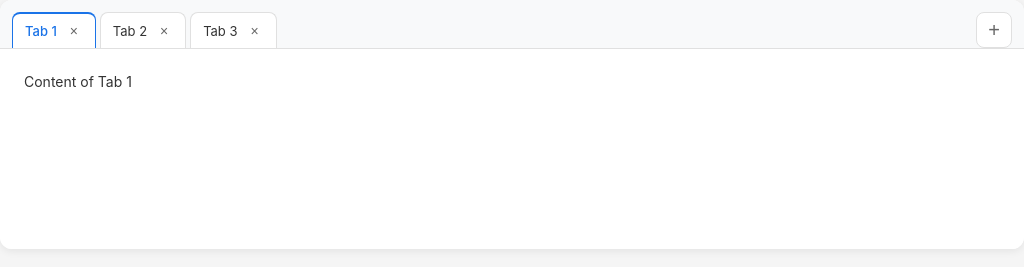
it: TabContainer Component › adds a new tab when add button is clicked
Click the button with test id "add-tab-btn". click: (994, 30)
box: x1=976 y1=12 x2=1012 y2=48
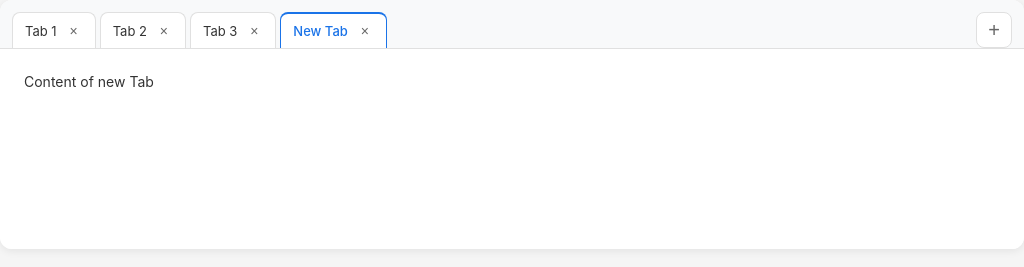
Expected: the text "New Tab" is shown, x1=293 y1=23 x2=348 y2=39
